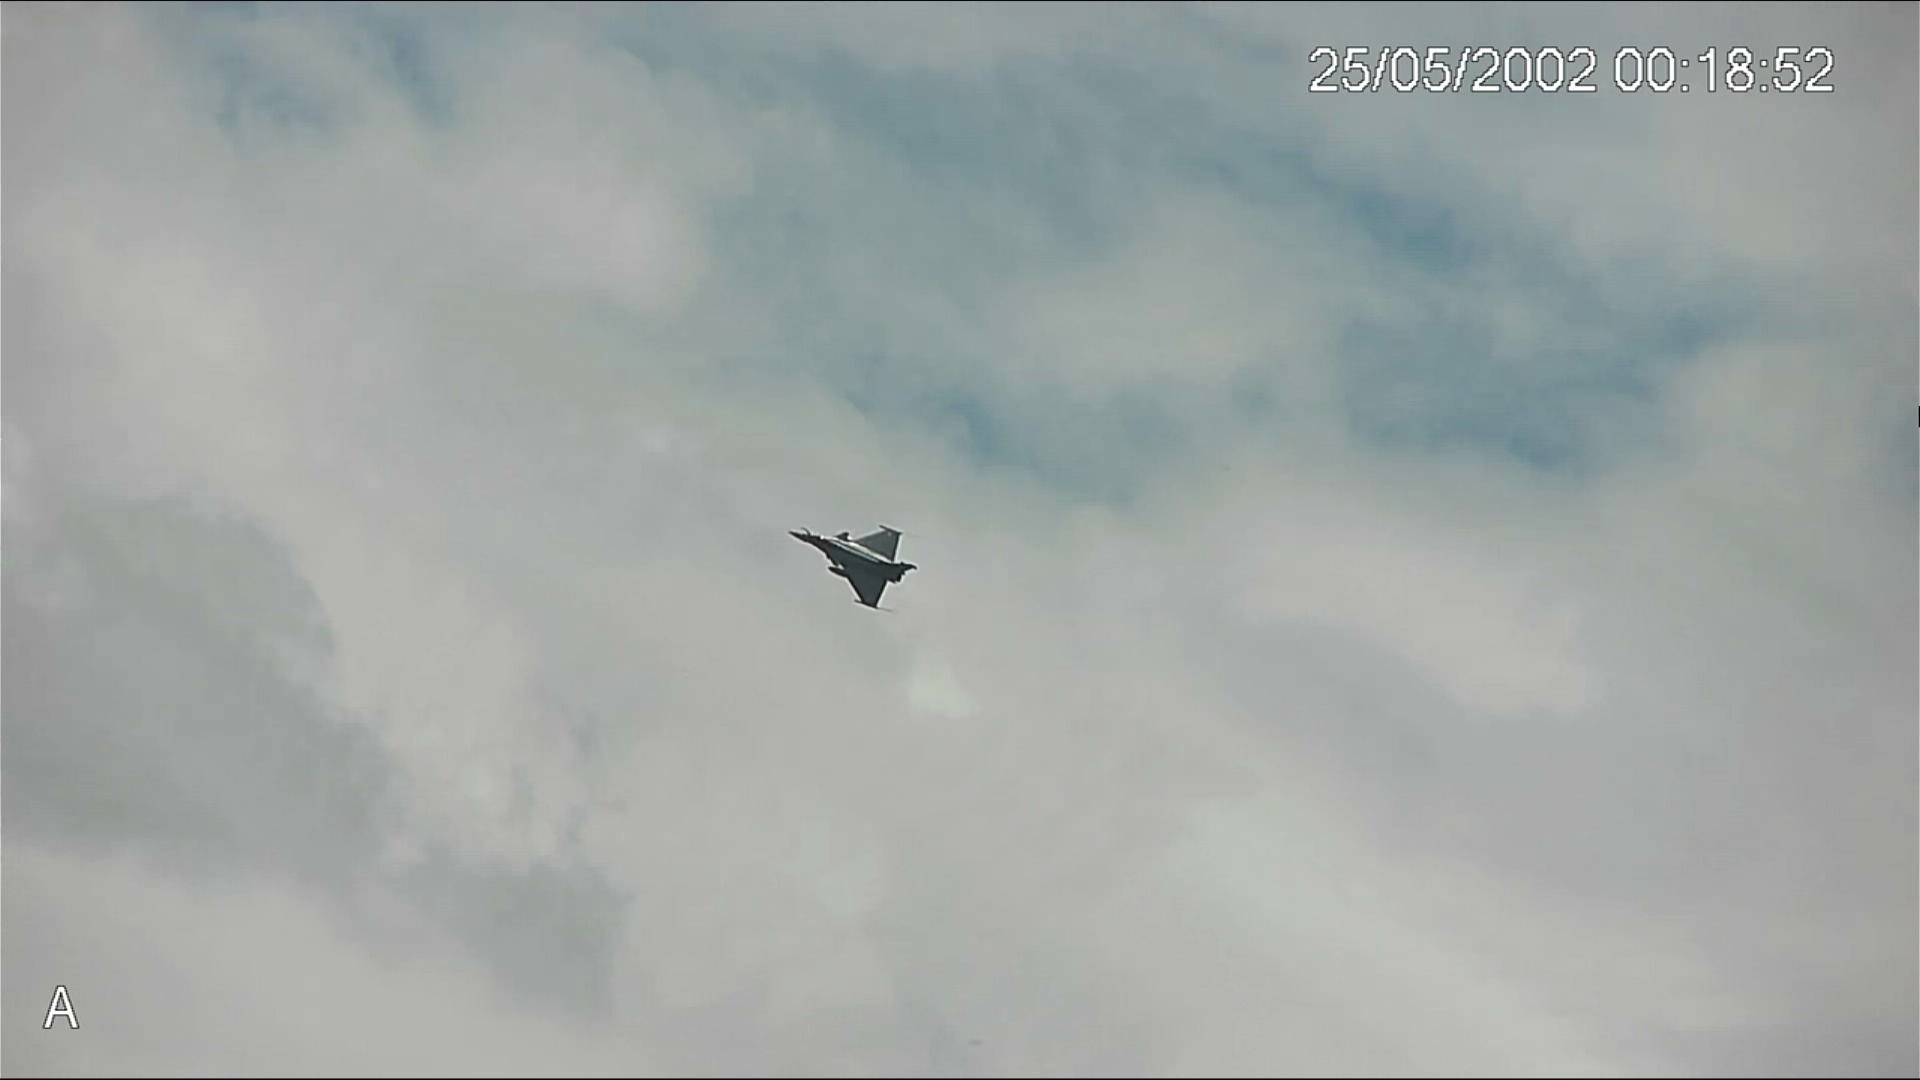SU_30: (785, 517, 915, 613)
